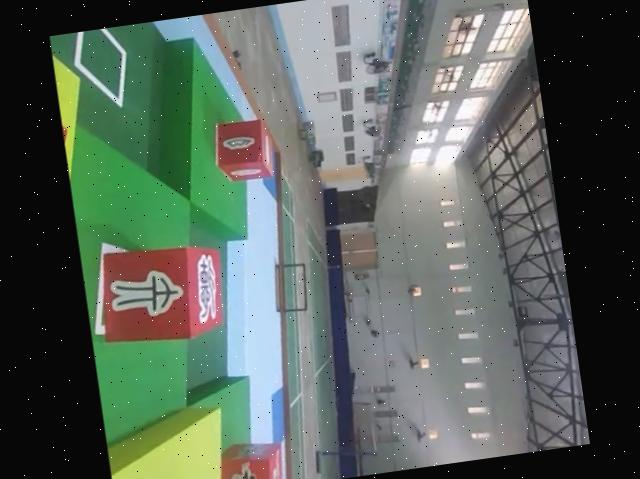R1: (207, 434, 288, 479)
R2 Fake: (92, 235, 233, 353)
R2 Real: (209, 112, 278, 191)
